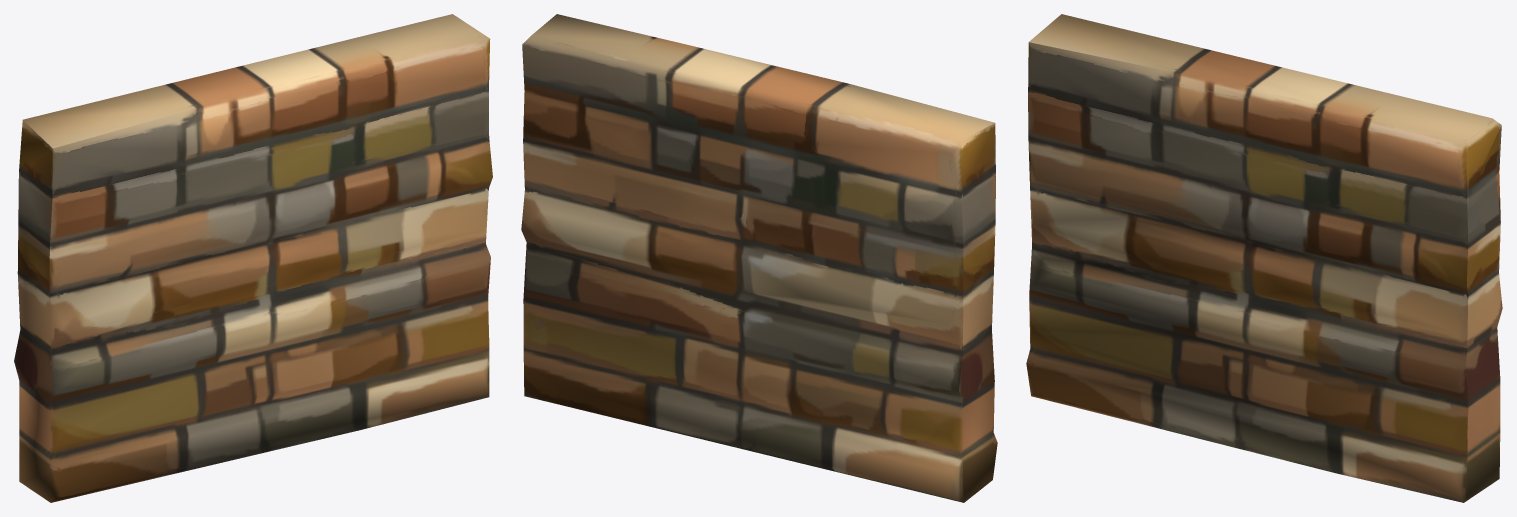
The model's file is exposed-stone-wall.glb.
3 views of the same model, side by side, from view 1: azimuth 30°, elevation 25°; view 2: azimuth 150°, elevation 25°; view 3: azimuth 330°, elevation 25° (orthographic).
Parts seen in each view (by area): view 1: geometry_0.001; view 2: geometry_0.001; view 3: geometry_0.001.
Part boxes in pixels (<box>): geometry_0.001: <box>14,14,492,502</box>; geometry_0.001: <box>521,14,997,502</box>; geometry_0.001: <box>1026,14,1502,502</box>.
Bounding box in the file's own units: 0.9962 × 0.7876 × 0.1634.
Materials: 1 (1 with a texture image).
